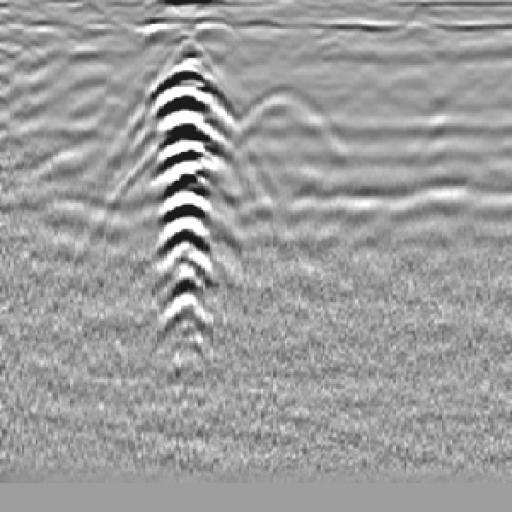metalic: (132, 31, 236, 358)
nonmetalic: (220, 64, 359, 180)
